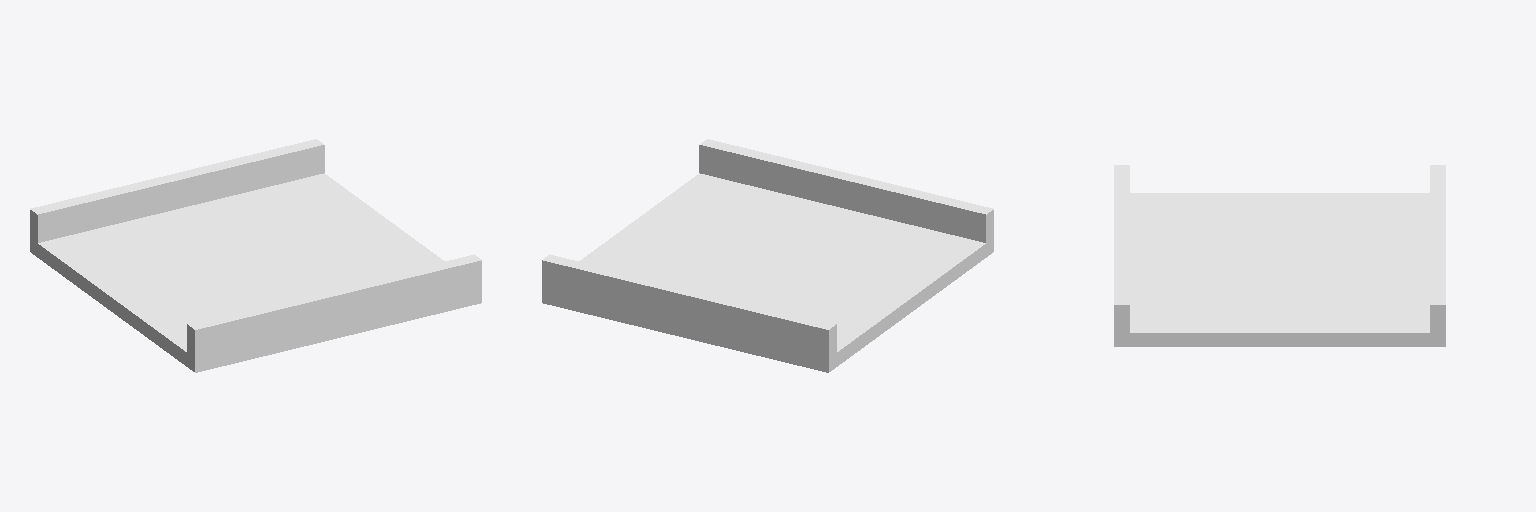
Rendered from trincheirablackpower.obj.
3 renders of one model, left to right at view 1: azimuth 30°, elevation 25°; view 2: azimuth 150°, elevation 25°; view 3: azimuth 270°, elevation 25°, orthographic.
Bounding box in the file's own units: 21 × 3 × 21.